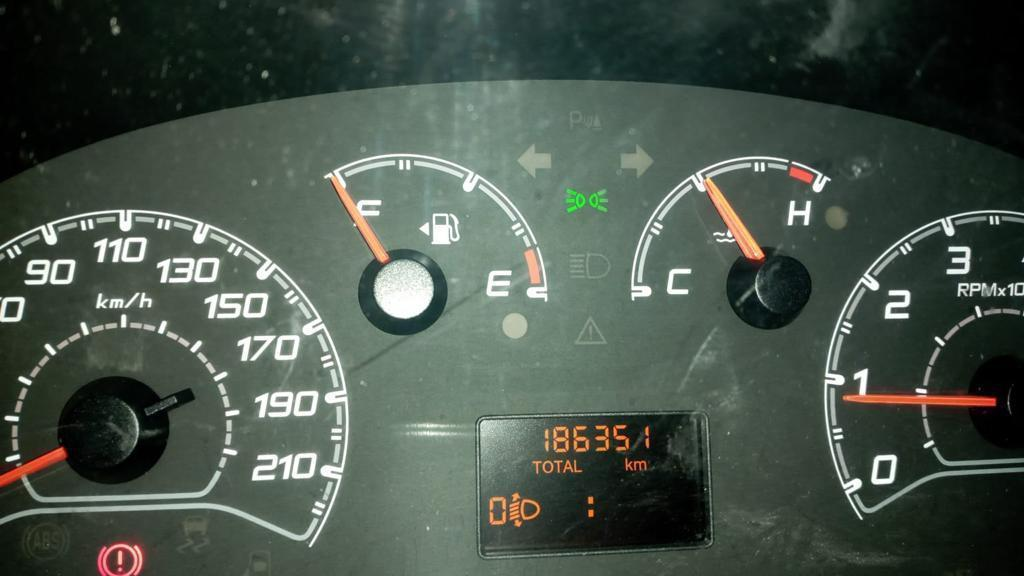0: (486, 493, 508, 526)
1: (642, 423, 652, 449), (542, 426, 551, 452)
3: (591, 423, 610, 452)
5: (611, 423, 631, 452)
6: (571, 424, 591, 453)
8: (552, 424, 570, 454)
X: (584, 492, 596, 518), (633, 458, 648, 472), (529, 458, 542, 474), (552, 458, 563, 475), (622, 455, 633, 472), (572, 458, 584, 473), (563, 458, 573, 475), (542, 459, 553, 474)
odometer: (472, 408, 716, 563)
